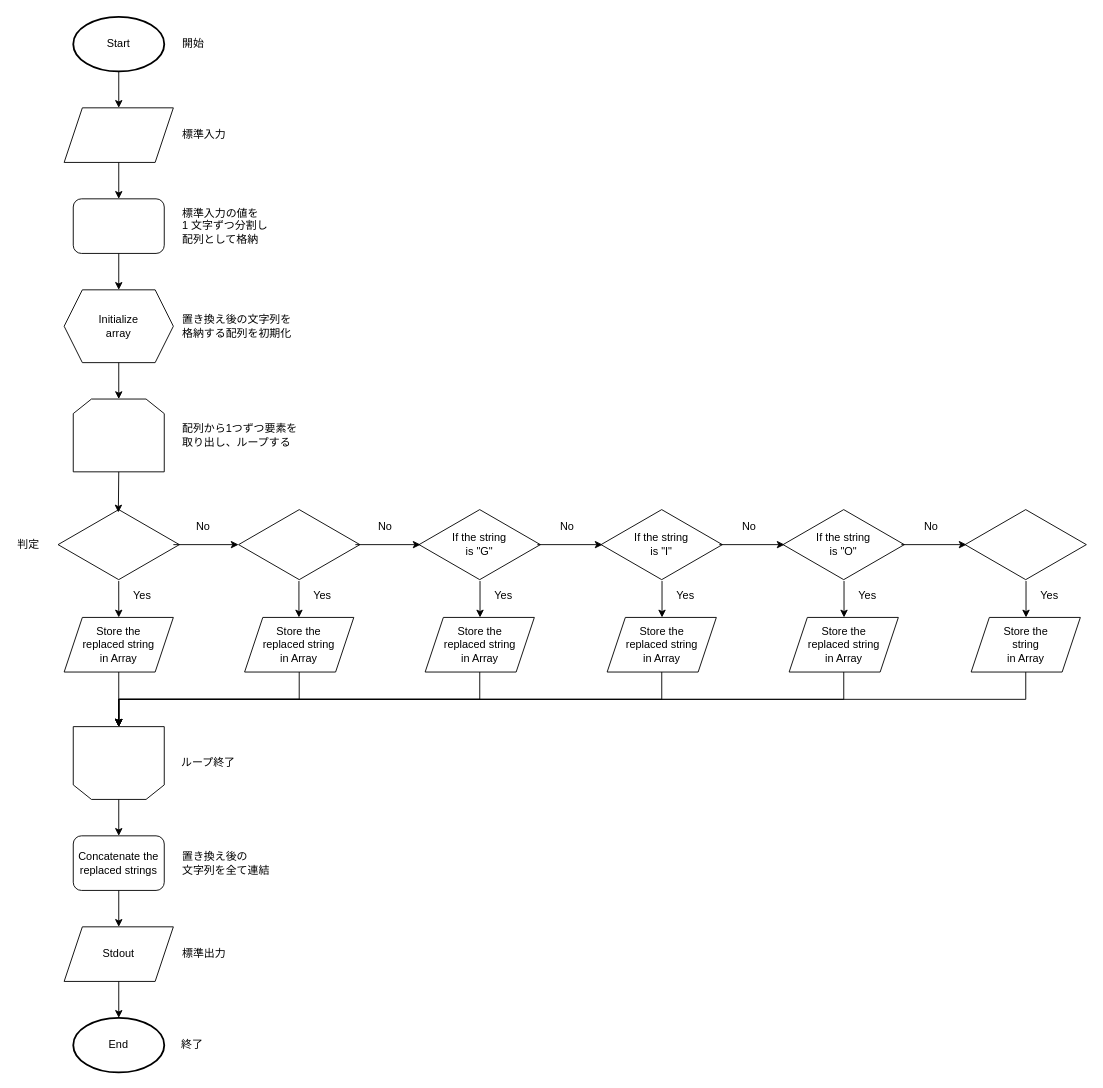
Image size: 1103x1088. Some labels were removed from this diagram. The centre of each missing label's shape, as x and y in pixels:
If the string is "A": [118,544]
If the string is "E": [299,544]
Loop End: [118,762]
Loop Start: [118,435]
None: [1025,544]
Split one characters by store in array: [118,225]
Stdin: [118,134]
